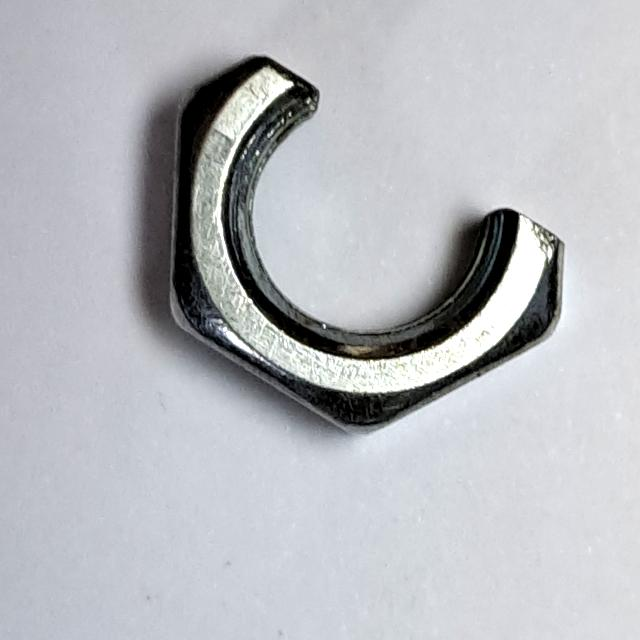Fracture: (154, 40, 602, 457)
